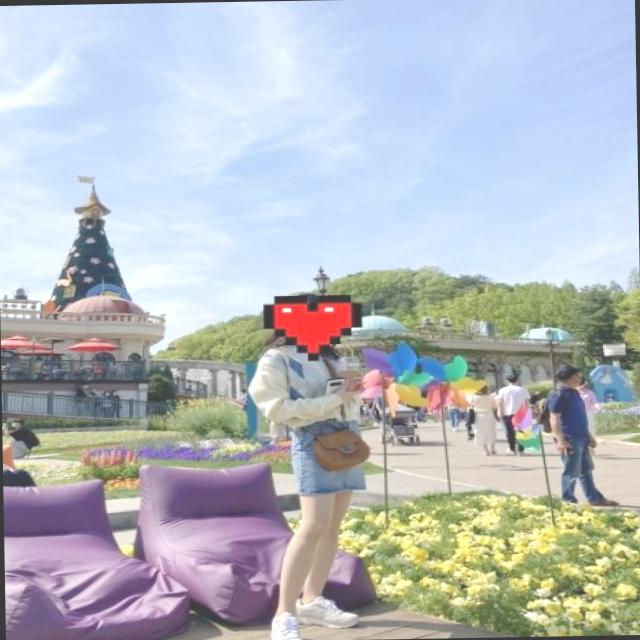cardigan: (246, 341, 366, 432)
skirt: (290, 418, 368, 498)
